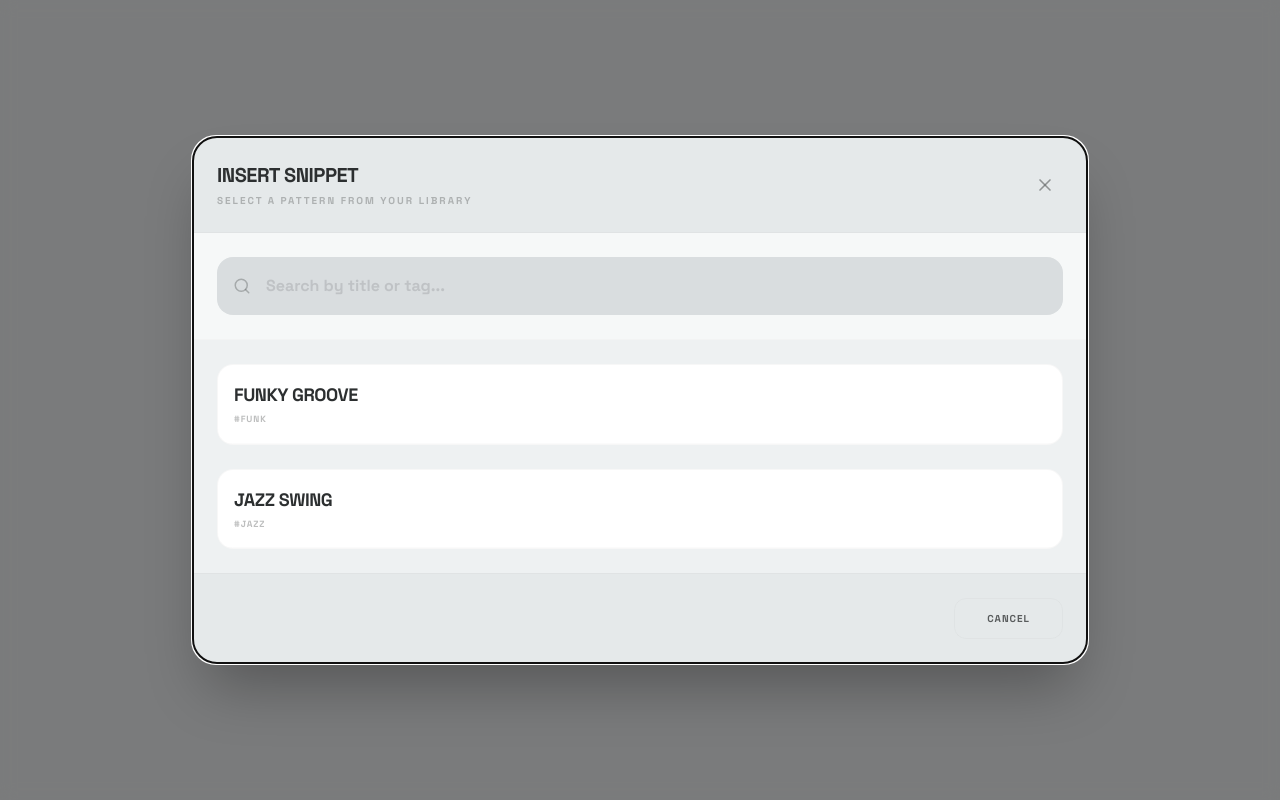
SnippetPickerModal › filters snippets by search query
Expected: the heading "Funky Groove" is shown, [234,381,358,409]
Type "jazz" into the field with placeholder "Search by title or tag...".
click(640, 286); type("jazz")  # box [217,257,1063,315]
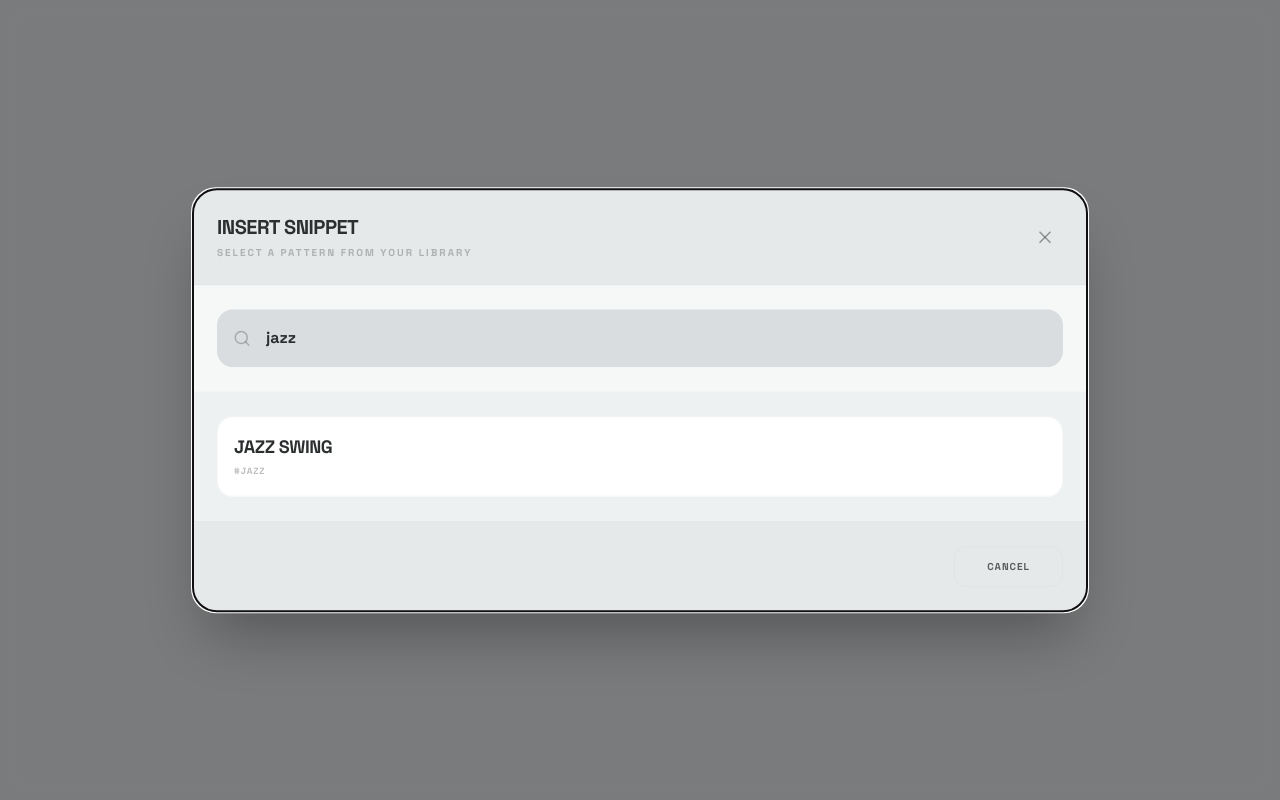
Expected: the heading "Jazz Swing" is shown, [234,433,332,461]
Now the button "Funky Groove" is gone
